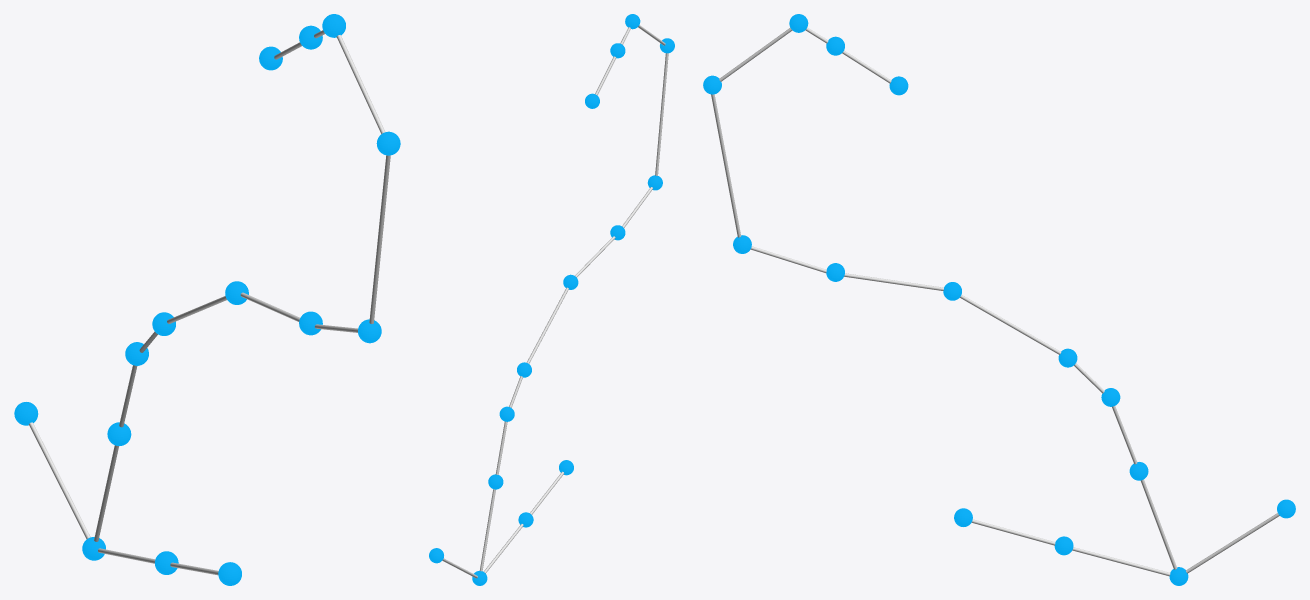
Rendered from Vrishchik.glb.
The picture shows the model from 3 angles, left to right: view 1: azimuth 30°, elevation 25°; view 2: azimuth 150°, elevation 25°; view 3: azimuth 270°, elevation 25°; orthographic projection. The views are drawn at different scales.
Parts seen in each view (by area): view 1: Extra.003; view 2: Extra.003; view 3: Extra.003.
Part boxes in pixels (box(x1,y1,x2,y2)): Extra.003: box(14, 14, 400, 585); Extra.003: box(429, 14, 674, 585); Extra.003: box(703, 14, 1295, 585).
Bounding box in the file's own units: 0.1011 × 3.36 × 3.17.
